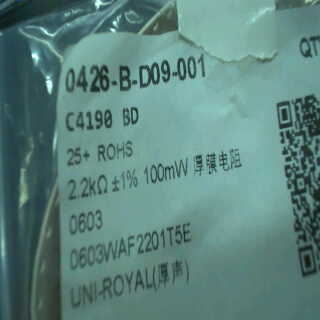2.2kR: (66, 174, 111, 199)
